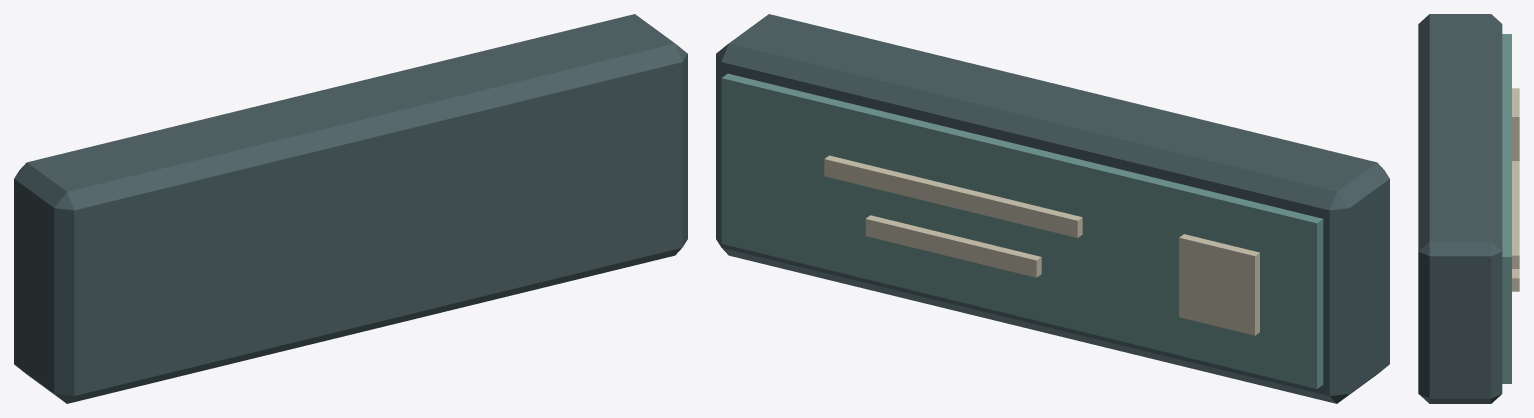
File: entry-sign.glb
3 views of the same model, side by side, from view 1: azimuth 30°, elevation 25°; view 2: azimuth 150°, elevation 25°; view 3: azimuth 270°, elevation 25° (orthographic). The views are drawn at different scales.
Parts seen in each view (by area): view 1: CITY_entry_sign; view 2: CITY_entry_sign; view 3: CITY_entry_sign.
Part boxes in pixels (box(x1,y1,x2,y2)): CITY_entry_sign: box(14, 14, 687, 403); CITY_entry_sign: box(716, 14, 1389, 403); CITY_entry_sign: box(1418, 14, 1519, 403).
Bounding box in the file's own units: 1 × 0.32 × 0.1805.
